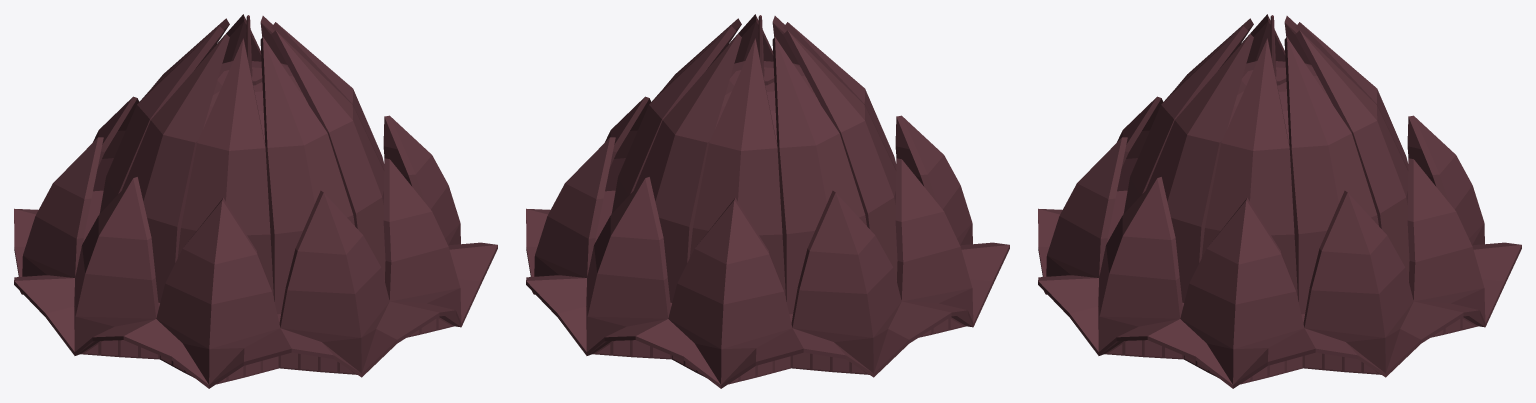
File: building-lotus-india.fbx
3 renders of one model, left to right at view 1: azimuth 30°, elevation 25°; view 2: azimuth 150°, elevation 25°; view 3: azimuth 270°, elevation 25°, orthographic.
Parts seen in each view (by area): view 1: building-lotus-india; view 2: building-lotus-india; view 3: building-lotus-india.
Boxes of the visible parts, left/top/right/bottom form: building-lotus-india: left=14, top=14, right=497, bottom=388; building-lotus-india: left=526, top=14, right=1009, bottom=388; building-lotus-india: left=1038, top=14, right=1521, bottom=388.
Bounding box in the file's own units: 33.98 × 21.35 × 33.47.
